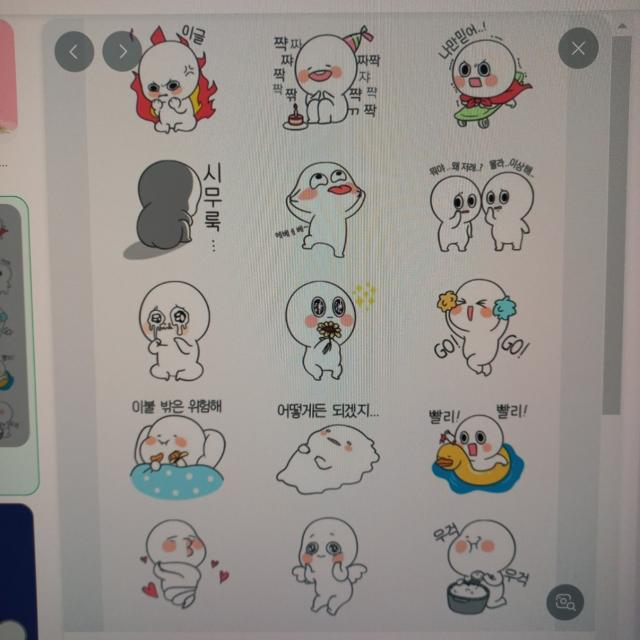-ompang: (107, 391, 241, 517), (104, 150, 243, 270), (255, 384, 398, 500), (413, 263, 554, 380), (408, 389, 550, 503), (419, 505, 544, 627), (426, 16, 552, 133), (268, 17, 385, 139), (110, 279, 234, 394), (271, 274, 389, 394), (262, 155, 379, 271), (410, 159, 552, 252), (122, 13, 226, 139), (271, 510, 383, 621), (131, 510, 233, 616)
